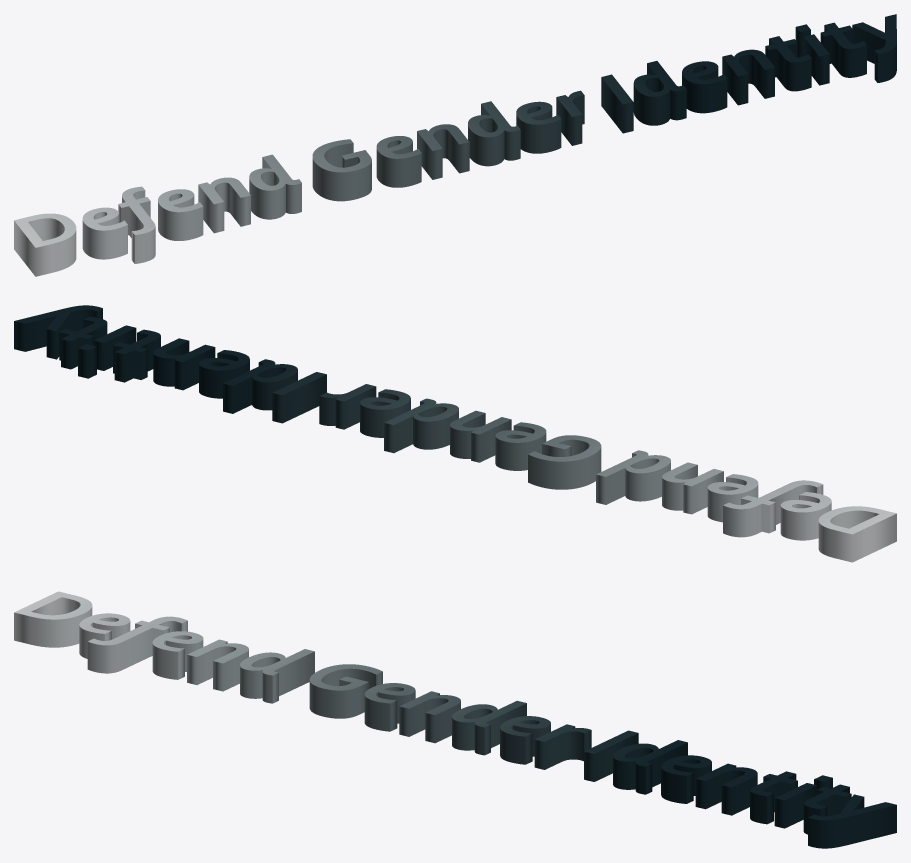
3 renders of one model, top to bottom at view 1: azimuth 30°, elevation 25°; view 2: azimuth 150°, elevation 25°; view 3: azimuth 330°, elevation 25°, orthographic. The views are drawn at different scales.
Visible parts, largest first — view 1: 文字.004; view 2: 文字.004; view 3: 文字.004.
Part boxes in pixels (x1,y1,x2,y2): 文字.004: [14, 14, 896, 276]; 文字.004: [14, 305, 896, 562]; 文字.004: [14, 591, 896, 848].
Bounding box in the file's own units: 8.32 × 0.26 × 0.8045.
1 material, 1 textured.
